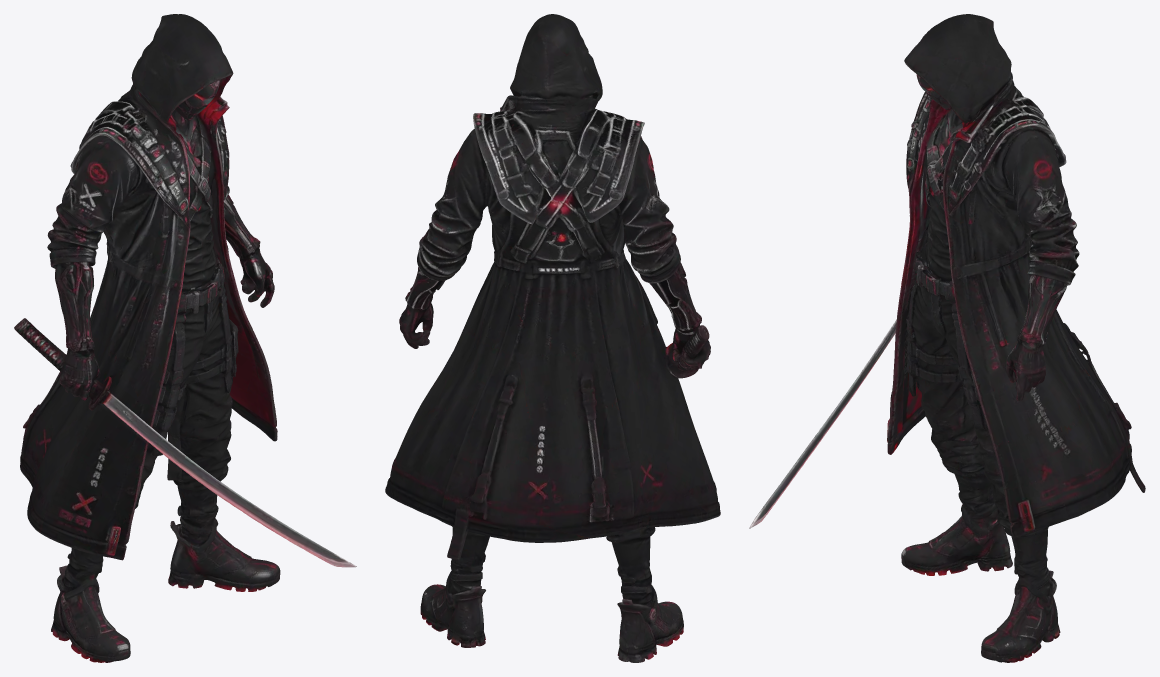
File: 赛博忍者2-黄歧.glb
3 renders of one model, left to right at view 1: azimuth 30°, elevation 25°; view 2: azimuth 150°, elevation 25°; view 3: azimuth 270°, elevation 25°, orthographic.
Bounding box in the file's own units: 0.9301 × 1.9 × 1.14.
Materials: 1 (1 with a texture image).
